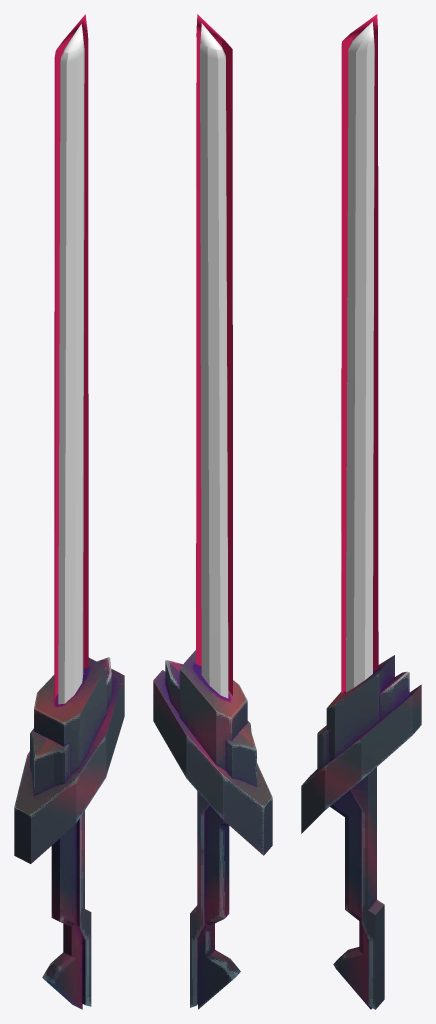
File: item_energy_sword_red.glb
The picture shows the model from 3 angles, left to right: view 1: azimuth 30°, elevation 25°; view 2: azimuth 150°, elevation 25°; view 3: azimuth 330°, elevation 25°; orthographic projection.
Parts seen in each view (by area): view 1: Sword_Dark_Saber, Sword_Dark; view 2: Sword_Dark_Saber, Sword_Dark; view 3: Sword_Dark_Saber, Sword_Dark.
Part boxes in pixels (box(x1,y1,x2,y2)): Sword_Dark_Saber: box(54, 14, 88, 708); Sword_Dark: box(14, 657, 124, 1009); Sword_Dark_Saber: box(196, 14, 232, 698); Sword_Dark: box(153, 650, 272, 1009); Sword_Dark_Saber: box(341, 14, 378, 694); Sword_Dark: box(301, 655, 421, 1009).
Size of the model in its own units: 0.1326 by 1.19 by 0.0889.
1 material, 1 textured.
